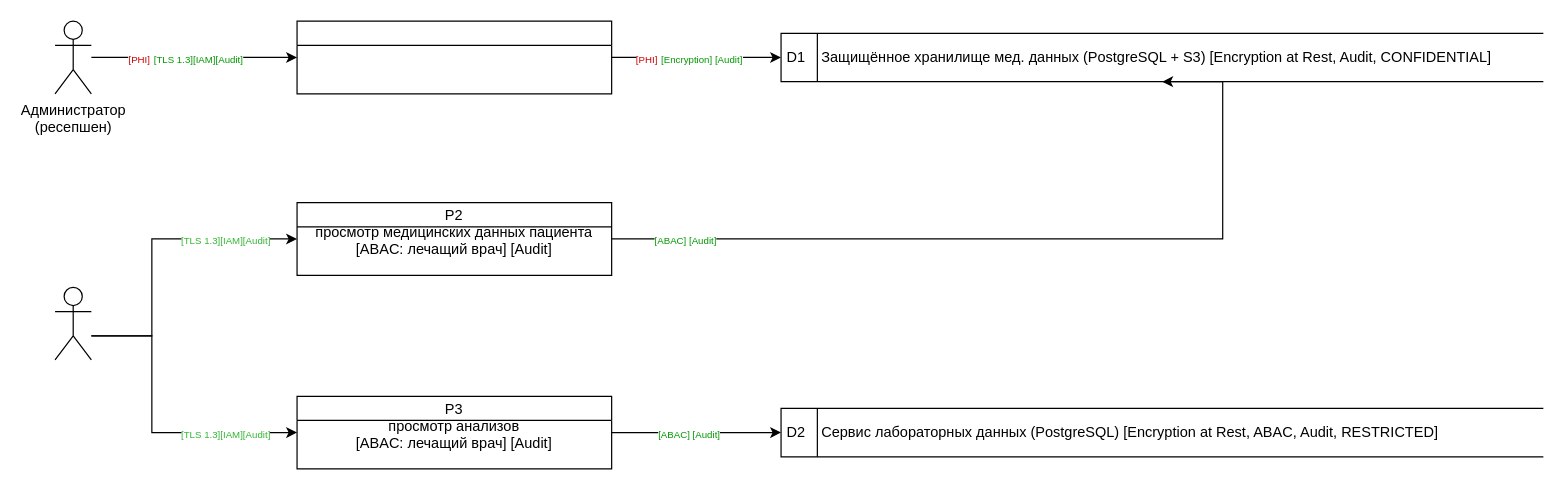
Some shapes in this 1565 by 490 pixel diagram are drawn without their labels. Here are the shapes that lost their labels. From the top down, the centre of each, then its label:
(x=454, y=57): P1 регистрация файла с данными пациента [Consent Check] [Audit] [RBAC]
(x=72, y=323): Врач
